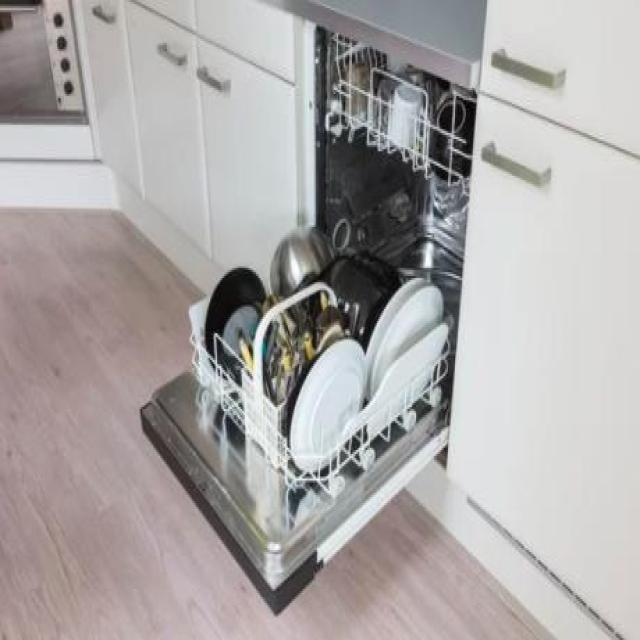dishwasher: (136, 31, 478, 622)
